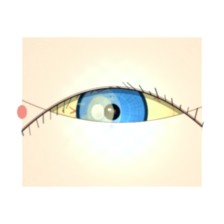corneal_ulcer: (74, 91, 127, 134)
